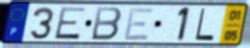1: (175, 6, 193, 43)
3: (28, 6, 56, 41)
B: (89, 6, 124, 42)
E: (53, 6, 89, 41), (122, 7, 156, 42)
L: (194, 7, 216, 42)
